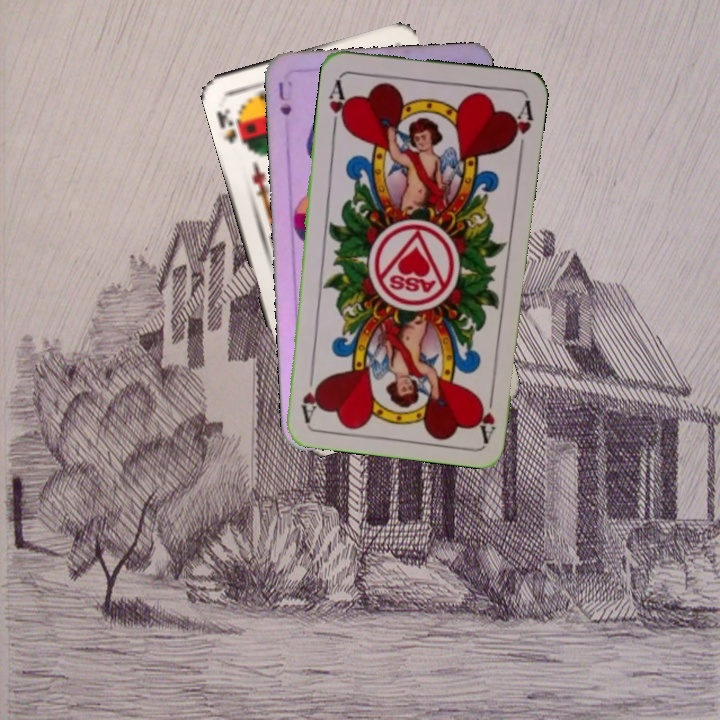HA: (324, 73, 352, 133), (472, 384, 498, 443)
SK: (212, 104, 250, 149)
SU: (274, 77, 296, 118)
